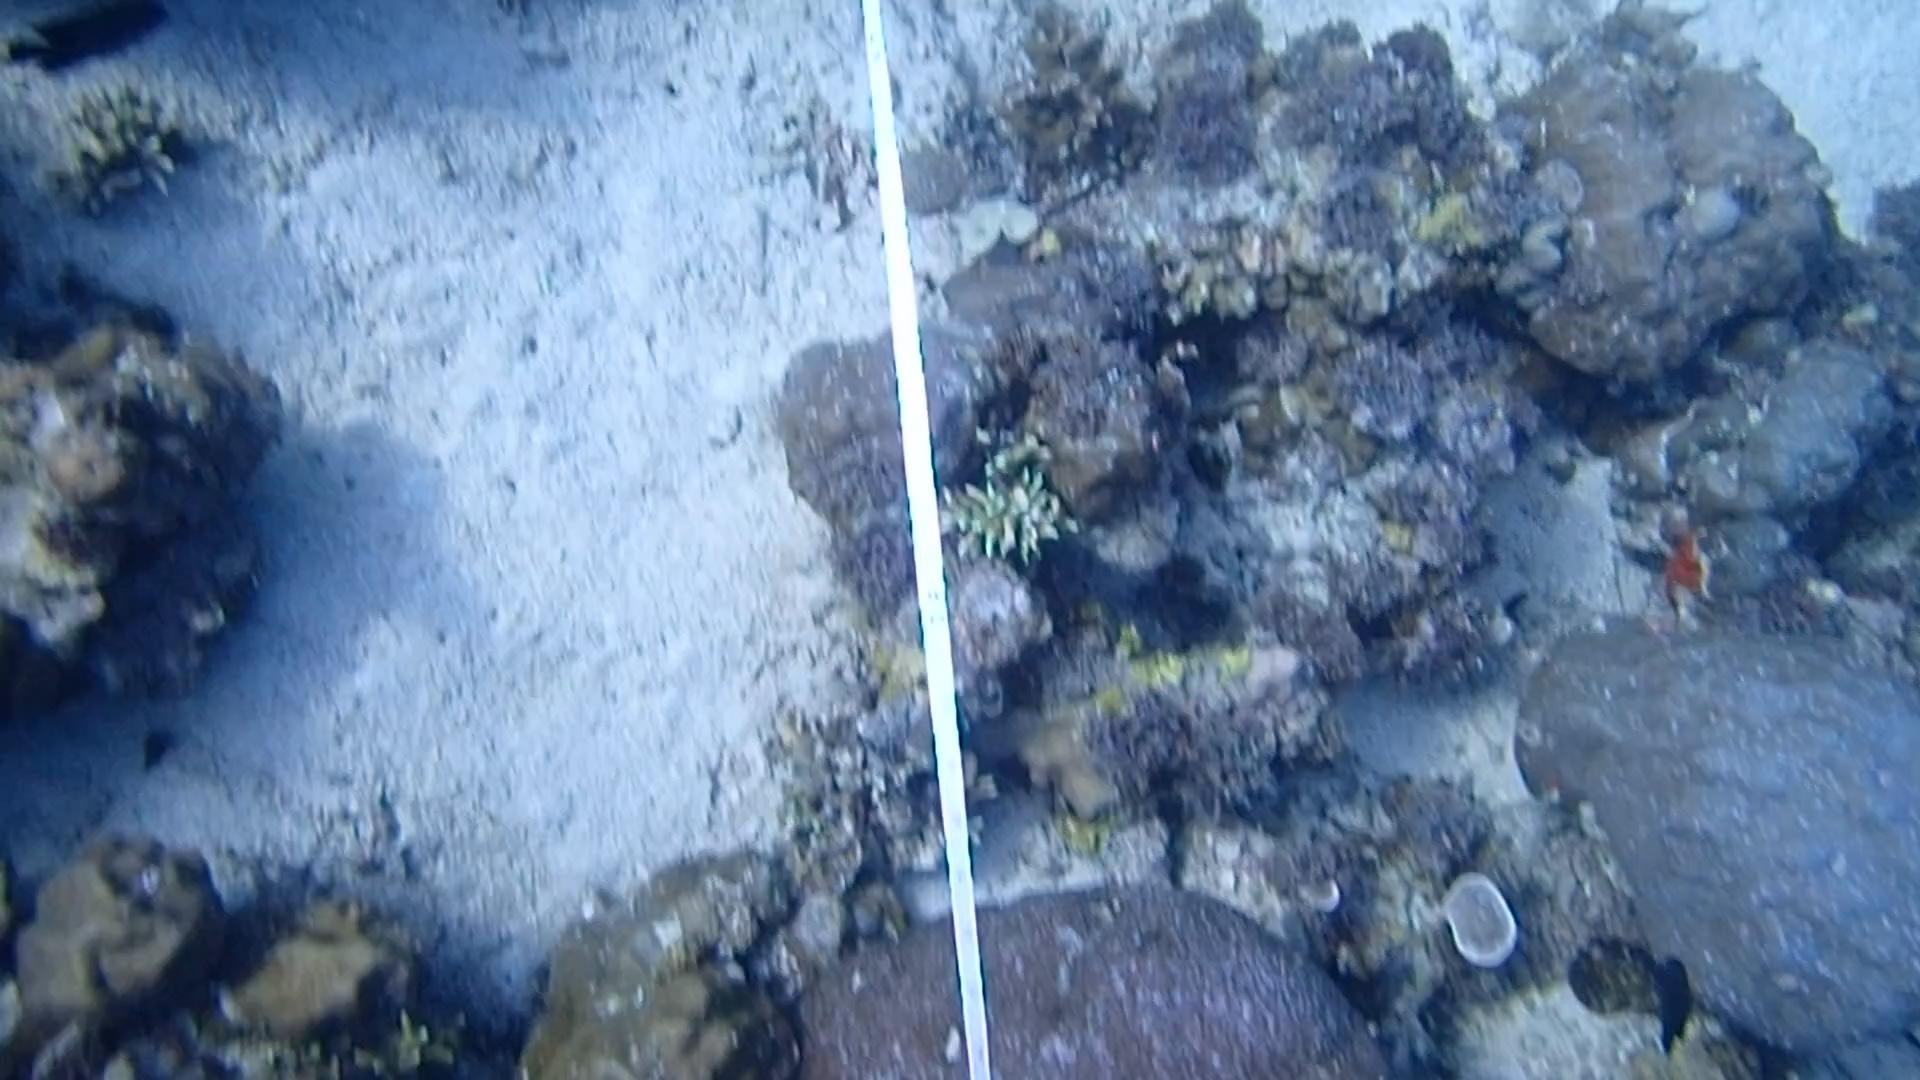Dark Fish: (9, 0, 170, 78), (1644, 955, 1698, 1054)
